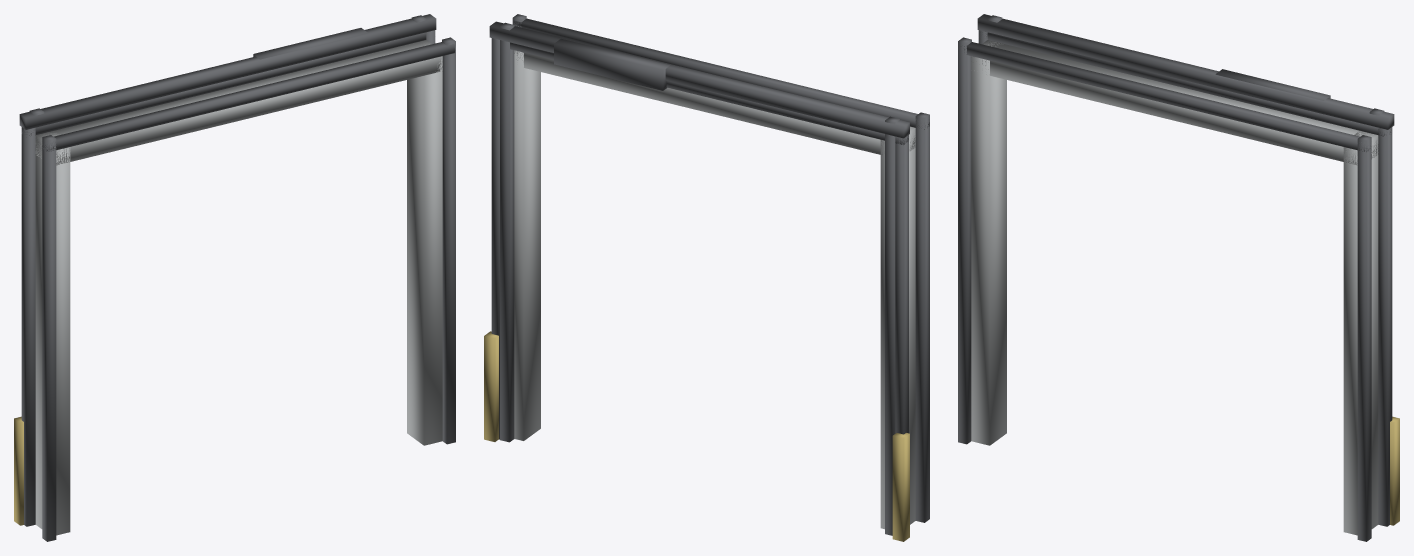
The model's file is bay_opening_service_bay_w360_h360_d30.glb.
The picture shows the model from 3 angles, left to right: view 1: azimuth 30°, elevation 25°; view 2: azimuth 150°, elevation 25°; view 3: azimuth 330°, elevation 25°; orthographic projection.
Visible parts, largest first — view 1: world; view 2: world; view 3: world.
Boxes of the visible parts, <box> form: world: <box>14,14,455,541</box>; world: <box>484,14,929,541</box>; world: <box>958,14,1399,541</box>.
Size of the model in its own units: 4.23 by 3.99 by 0.522.
